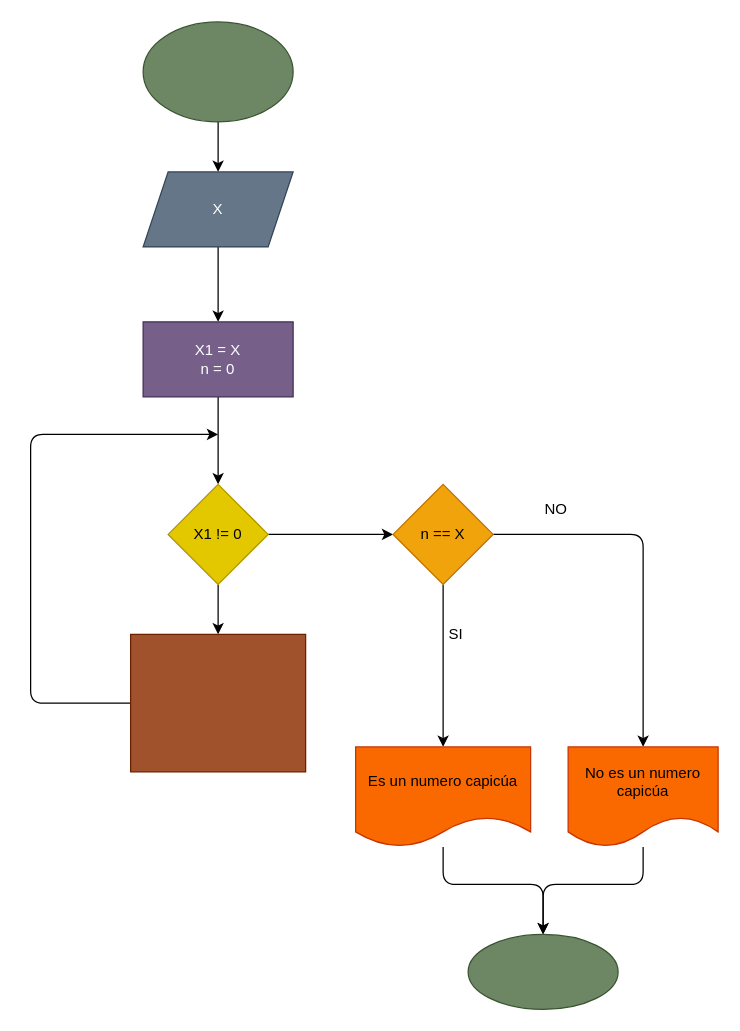
This 740x1031 diagram has some shape labels left out. Here are the shapes that lost their labels. From the top down, the centre of each, then its label:
point (217, 71): INICIO
point (217, 702): n = 10 * n + X1 % 10 X1 = X1 // 10
point (542, 971): FIN
